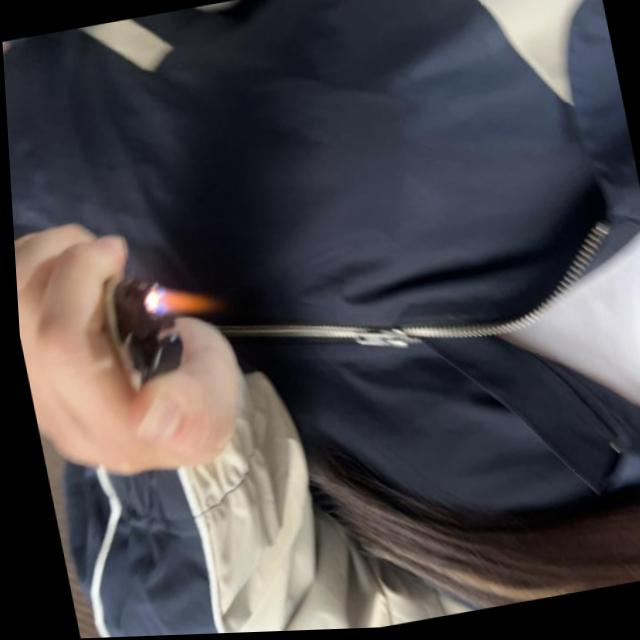Fire: (135, 276, 221, 323)
